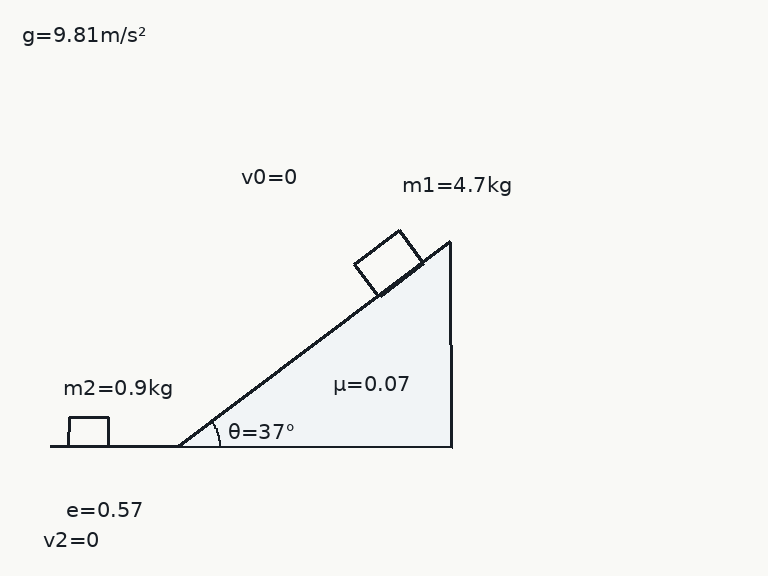block: (352, 228, 425, 298), (66, 415, 110, 448)
ramp: (178, 240, 453, 448)
